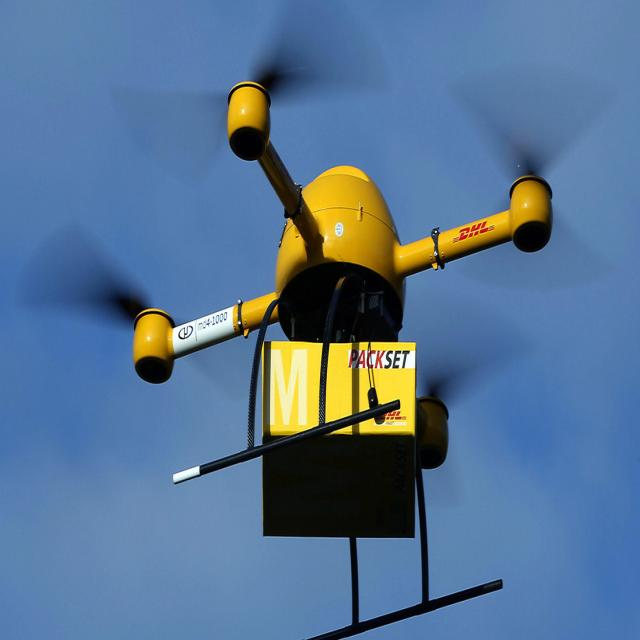drone: (101, 41, 585, 562)
